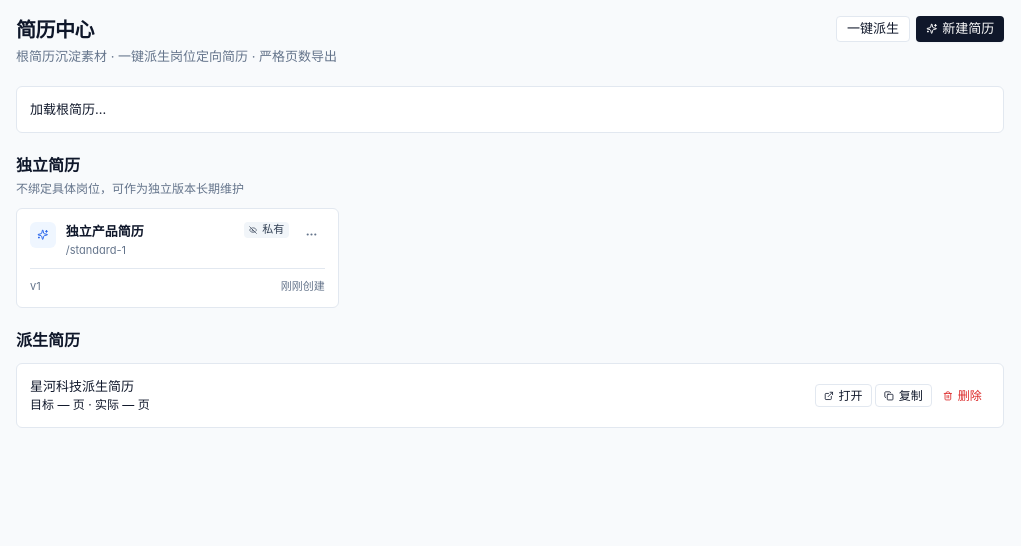
Test: ResumeList interaction hierarchy › exposes rename, duplicate and delete from a visible more menu
Click the button named "独立产品简历的更多操作": (312, 235) [299,222,325,248]
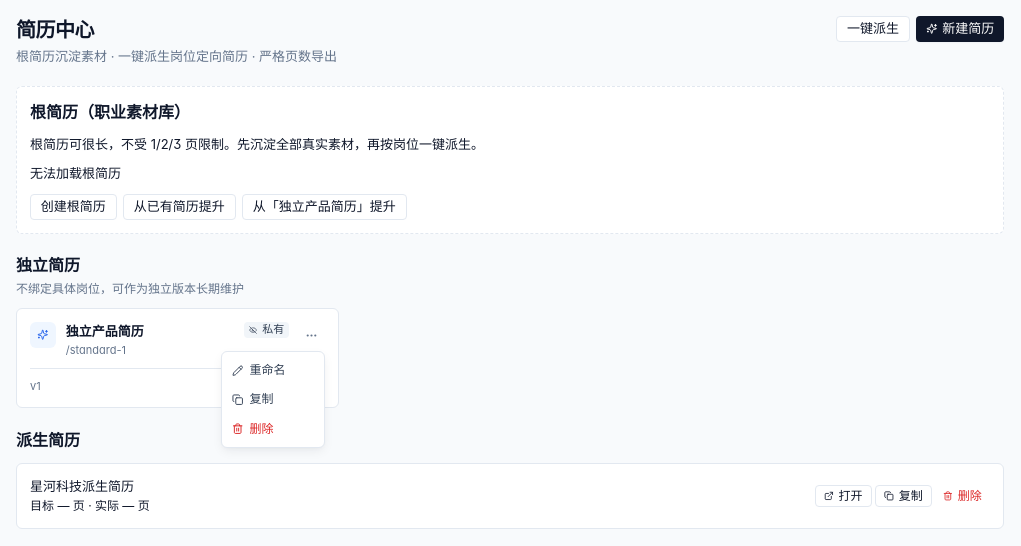
Expected: the menu item "重命名" is shown, [225,356,321,385]
Expected: the menu item "复制" is shown, [225,385,321,414]
Expected: the menu item "删除" is shown, [225,414,321,443]
